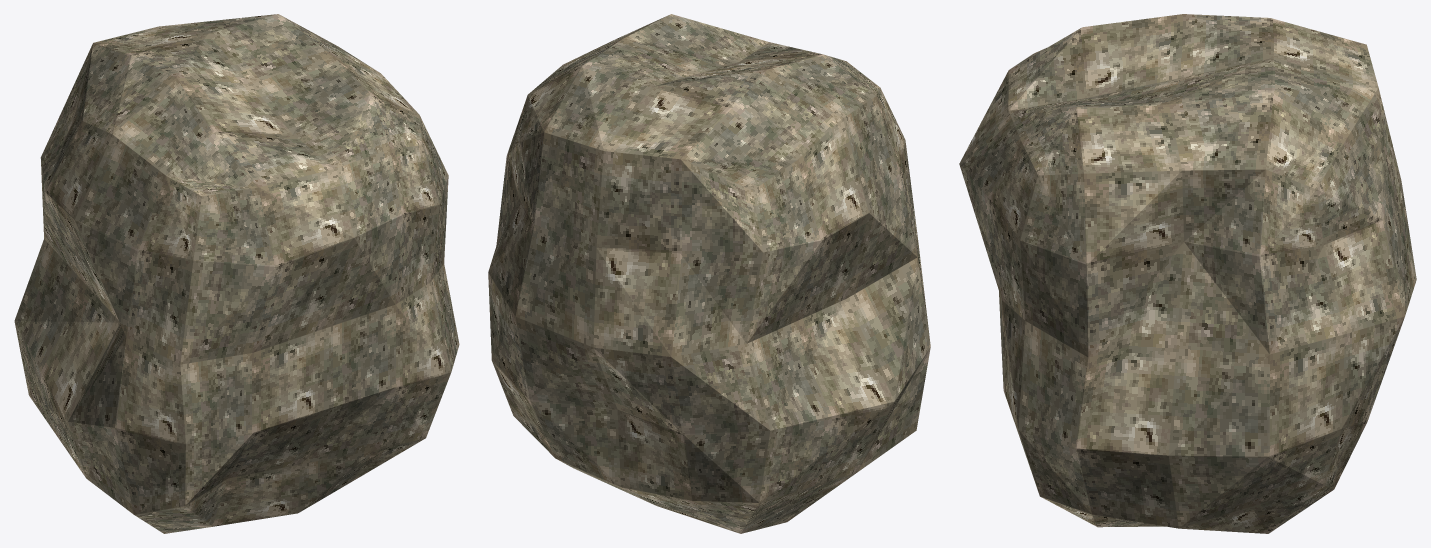
File: asteroid_all_mammoth_02_l2.fbx
The picture shows the model from 3 angles, left to right: view 1: azimuth 30°, elevation 25°; view 2: azimuth 150°, elevation 25°; view 3: azimuth 270°, elevation 25°; orthographic projection. The views are drawn at different scales.
Parts seen in each view (by area): view 1: mesh_node; view 2: mesh_node; view 3: mesh_node.
Boxes of the visible parts, x1,y1,x2,y2 form: mesh_node: (14,14,459,533); mesh_node: (488,14,930,533); mesh_node: (959,14,1416,533).
Size of the model in its own units: 244 by 291 by 248.
